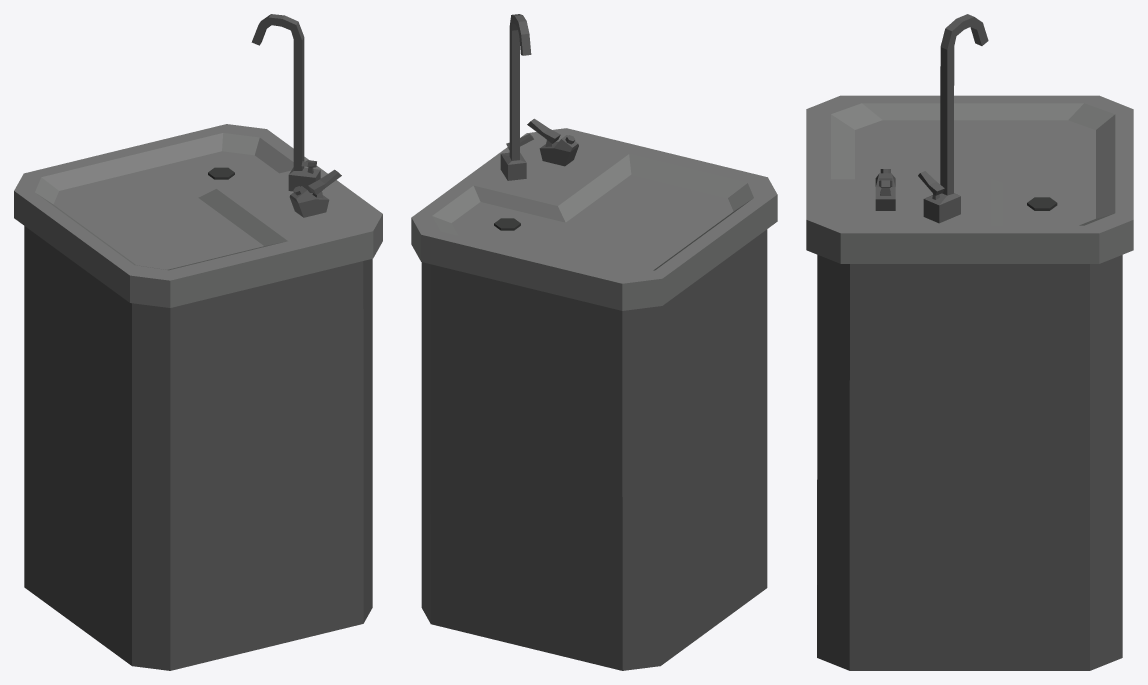
Rendered from DrinkFountain.glb.
3 views of the same model, side by side, from view 1: azimuth 30°, elevation 25°; view 2: azimuth 150°, elevation 25°; view 3: azimuth 270°, elevation 25° (orthographic). The views are drawn at different scales.
Parts seen in each view (by area): view 1: drinkfountain; view 2: drinkfountain; view 3: drinkfountain.
Part boxes in pixels (x1,y1,x2,y2): drinkfountain: (14,14,382,670); drinkfountain: (411,14,777,670); drinkfountain: (806,14,1133,670).
Bounding box in the file's own units: 0.536 × 1.14 × 0.538.
1 material, 1 textured.
